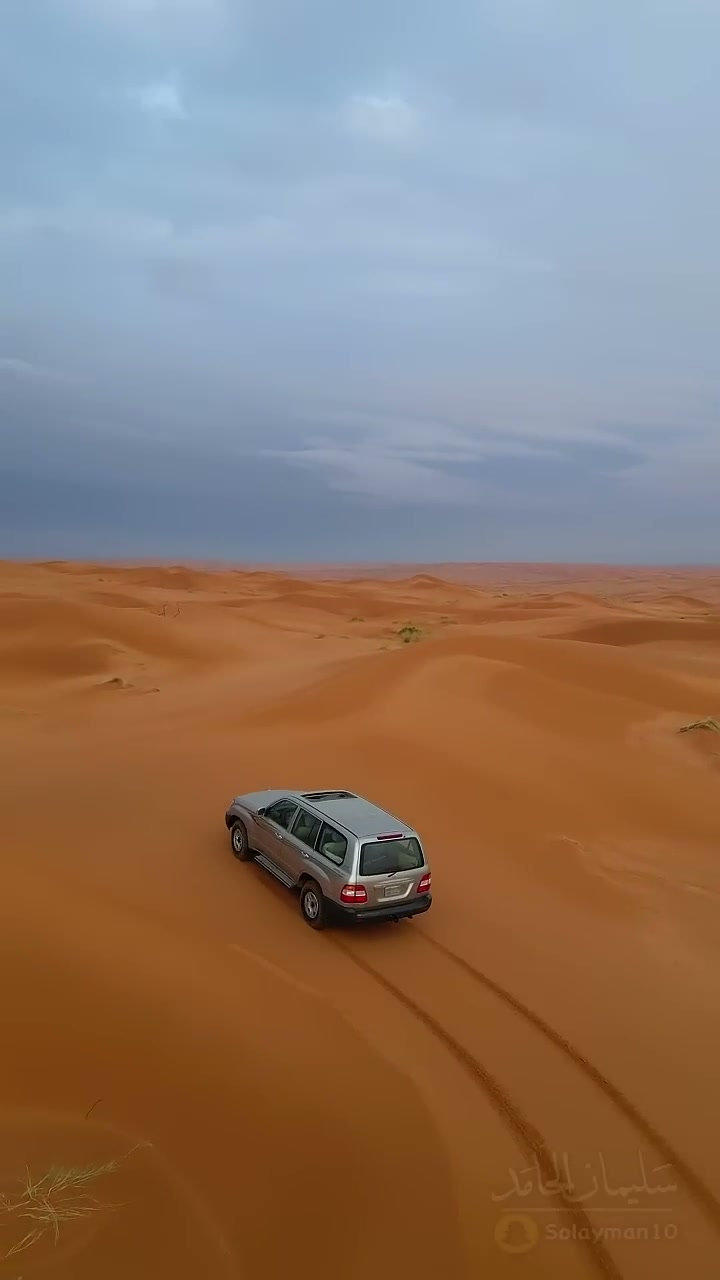vehicle_track: (415, 931, 719, 1229), (332, 937, 556, 1183)
